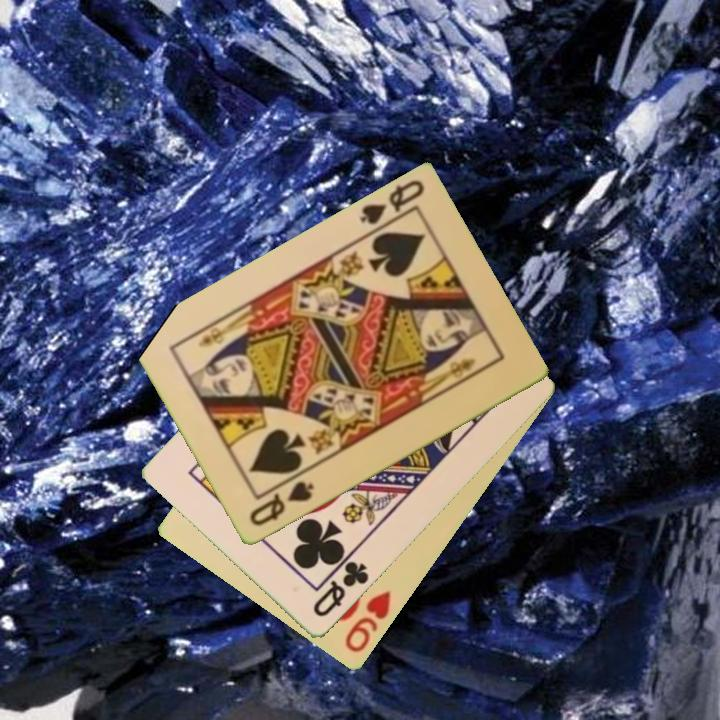9h: (341, 586, 395, 656)
Qc: (309, 558, 372, 621)
Qs: (245, 478, 317, 530), (355, 177, 427, 229)
